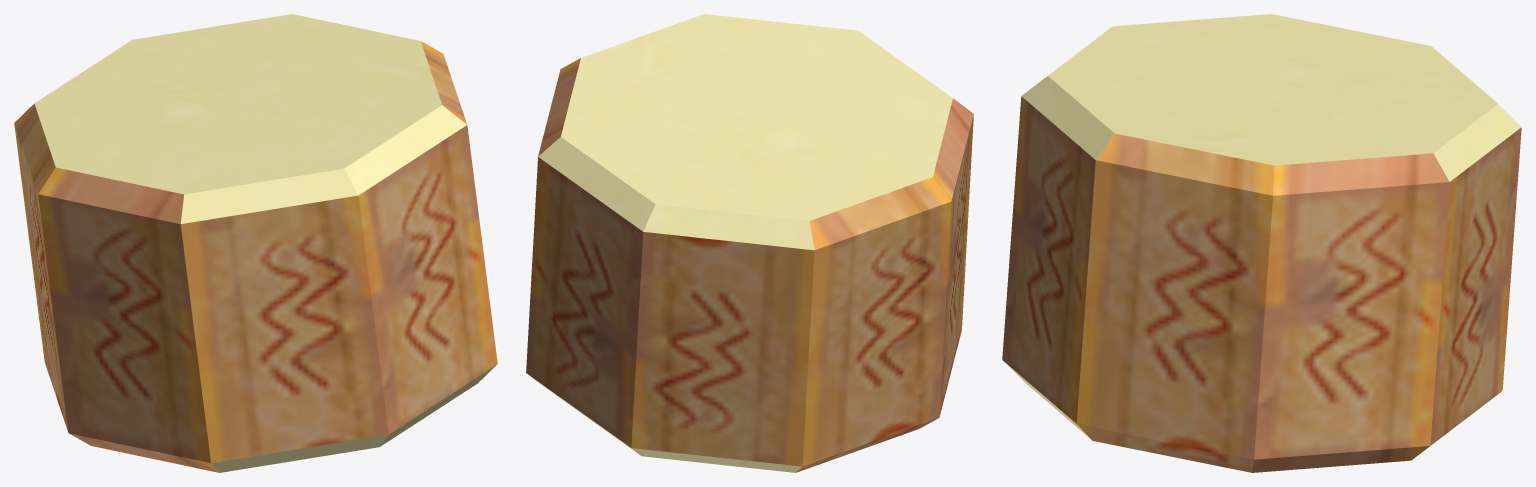
The model's file is Desert_Item_5.fbx.
The picture shows the model from 3 angles, left to right: view 1: azimuth 30°, elevation 25°; view 2: azimuth 150°, elevation 25°; view 3: azimuth 270°, elevation 25°; orthographic projection. The views are drawn at different scales.
Visible parts, largest first — view 1: Desert_Item_5; view 2: Desert_Item_5; view 3: Desert_Item_5.
Boxes of the visible parts, box(x1,y1,x2,y2) form: Desert_Item_5: box(14, 14, 497, 472); Desert_Item_5: box(526, 14, 973, 472); Desert_Item_5: box(1002, 14, 1521, 472).
Bounding box in the file's own units: 2.03 × 1.46 × 2.01.
1 material, 1 textured.
